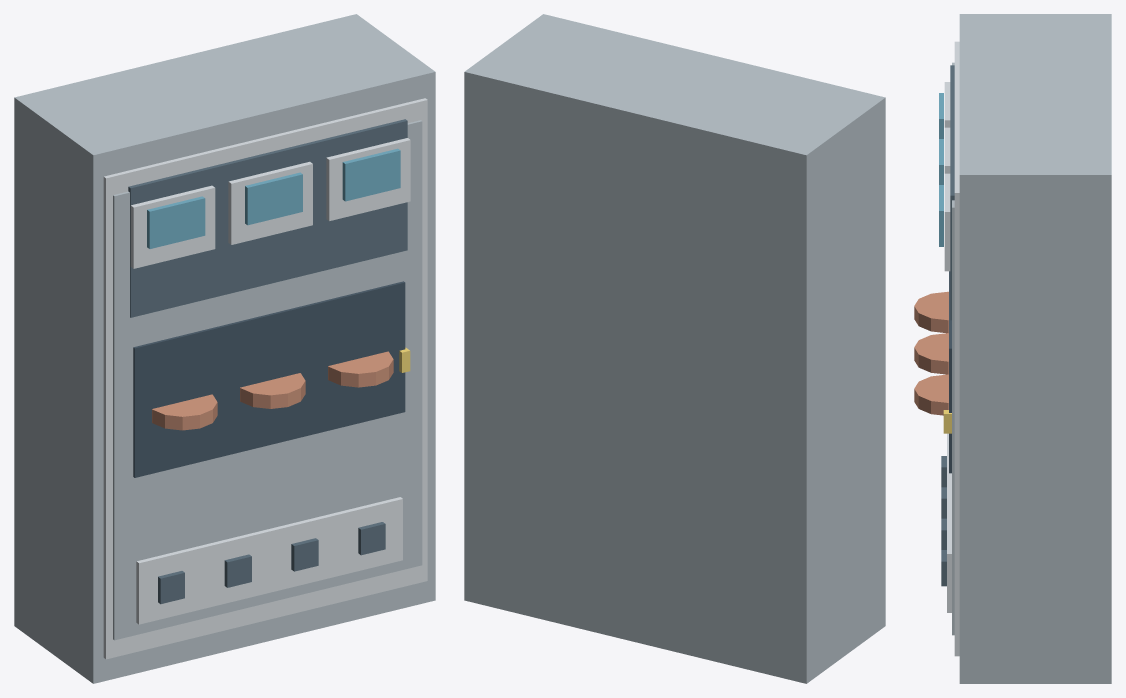
Rendered from meter-ct-cabinet.glb.
The picture shows the model from 3 angles, left to right: view 1: azimuth 30°, elevation 25°; view 2: azimuth 150°, elevation 25°; view 3: azimuth 270°, elevation 25°; orthographic projection. The views are drawn at different scales.
Visible parts, largest first — view 1: meter-ct-cabinet; view 2: meter-ct-cabinet; view 3: meter-ct-cabinet.
Boxes of the visible parts, bbox=[...] form: meter-ct-cabinet: bbox=[14, 14, 435, 683]; meter-ct-cabinet: bbox=[464, 14, 885, 683]; meter-ct-cabinet: bbox=[914, 14, 1111, 683].
Bounding box in the file's own units: 1.05 × 1.55 × 0.545.
